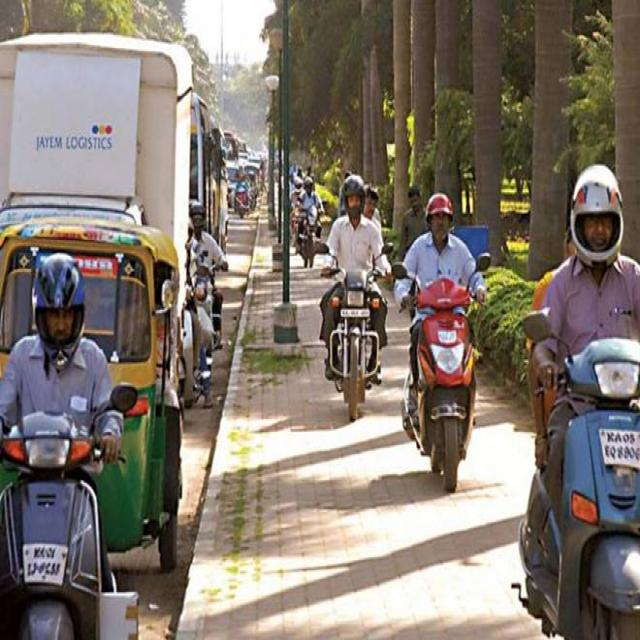bike: (391, 259, 501, 497), (309, 225, 395, 422)
